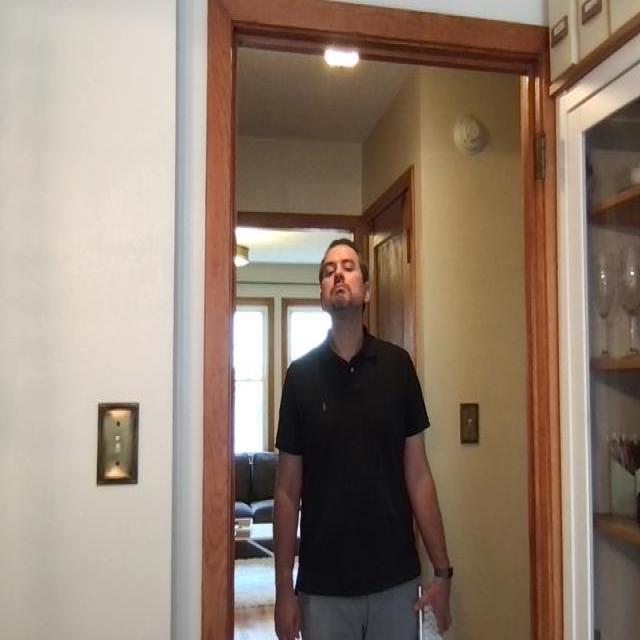face: (318, 238, 370, 318)
